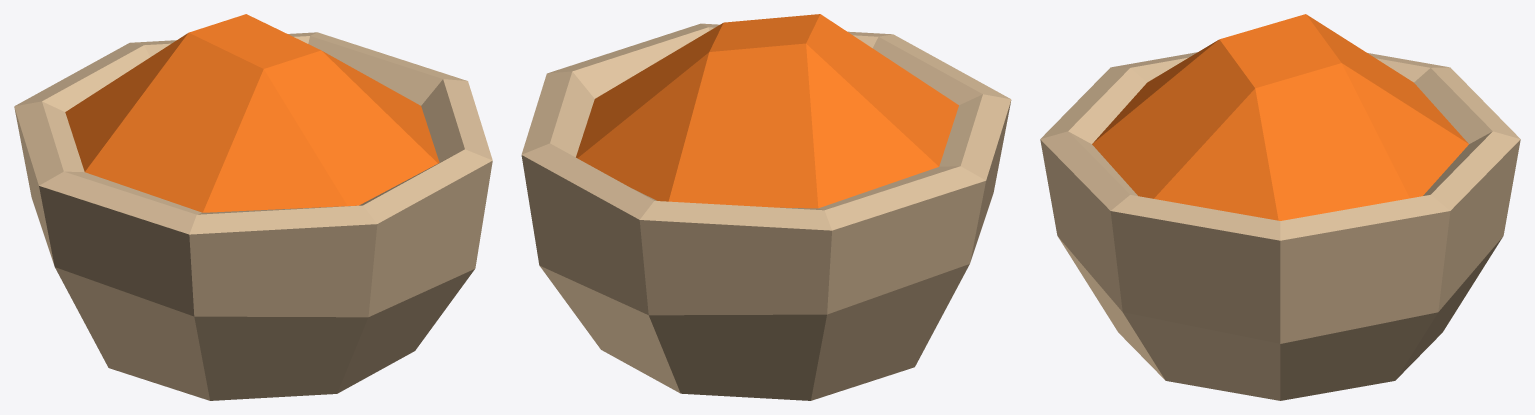
Rendered from egypt-bowl-spice-full.glb.
3 views of the same model, side by side, from view 1: azimuth 30°, elevation 25°; view 2: azimuth 150°, elevation 25°; view 3: azimuth 270°, elevation 25° (orthographic). The views are drawn at different scales.
Visible parts, largest first — view 1: egypt-bowl-spice-full; view 2: egypt-bowl-spice-full; view 3: egypt-bowl-spice-full.
Part boxes in pixels (box(x1,y1,x2,y2)): egypt-bowl-spice-full: box(14, 14, 492, 400); egypt-bowl-spice-full: box(521, 14, 1011, 400); egypt-bowl-spice-full: box(1040, 14, 1520, 400).
Bounding box in the file's own units: 0.533 × 0.3597 × 0.533.
Materials: 1 (1 with a texture image).
